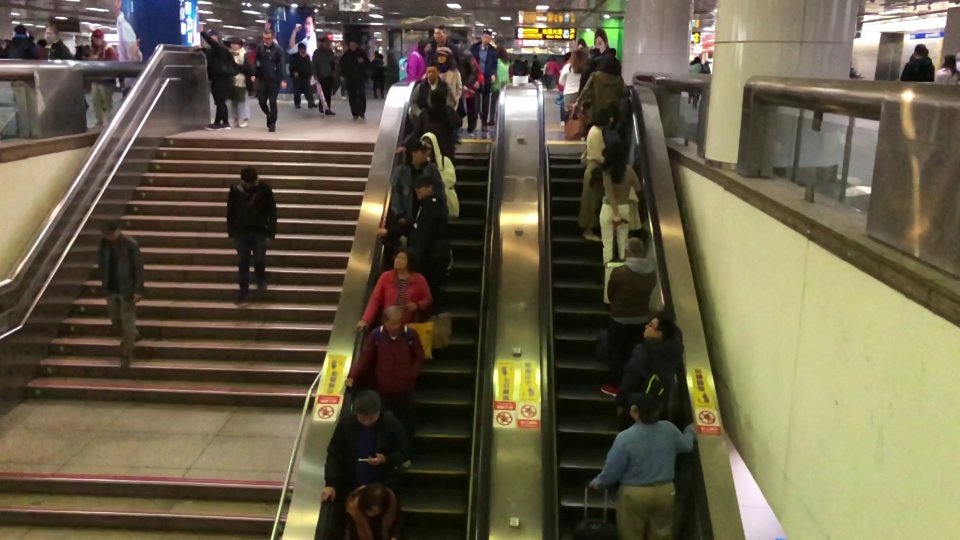person_head: (625, 386, 664, 427), (353, 481, 392, 519), (351, 386, 383, 430), (643, 313, 677, 341), (407, 136, 433, 168), (389, 244, 418, 272), (409, 172, 439, 199), (376, 307, 405, 333), (419, 131, 441, 164), (604, 139, 625, 171), (238, 163, 260, 192), (597, 52, 620, 75), (99, 218, 121, 242), (427, 86, 449, 110), (623, 237, 645, 259), (434, 44, 455, 66), (424, 62, 440, 84), (596, 107, 612, 128), (569, 48, 584, 70), (432, 24, 447, 45), (44, 24, 60, 43), (89, 28, 105, 47), (495, 43, 510, 63), (416, 37, 432, 54), (911, 42, 928, 58), (13, 23, 28, 38), (942, 52, 956, 68), (481, 30, 492, 49), (230, 35, 243, 51), (261, 30, 274, 46), (588, 44, 602, 58), (208, 28, 220, 43), (348, 38, 360, 52), (297, 42, 308, 56), (320, 36, 331, 48), (693, 56, 701, 64)
person_vbox: (589, 390, 698, 540), (608, 310, 684, 501), (344, 306, 424, 469), (318, 387, 411, 511), (376, 174, 450, 307), (597, 235, 657, 397), (95, 216, 148, 372), (225, 167, 279, 304), (598, 140, 642, 284), (356, 246, 432, 327), (419, 131, 461, 272), (396, 88, 463, 168), (387, 138, 448, 224), (576, 109, 612, 243), (196, 22, 239, 130), (575, 53, 630, 131), (250, 29, 287, 132), (82, 29, 119, 128), (342, 482, 400, 540), (338, 38, 372, 122), (408, 65, 457, 122), (470, 29, 496, 133), (227, 37, 251, 127), (487, 45, 513, 128), (312, 36, 338, 116), (434, 44, 462, 110), (290, 42, 317, 109), (559, 48, 585, 114), (396, 39, 432, 82), (574, 46, 603, 97), (901, 41, 934, 82), (5, 23, 39, 59), (43, 24, 74, 60), (689, 56, 707, 107), (933, 52, 960, 83)
